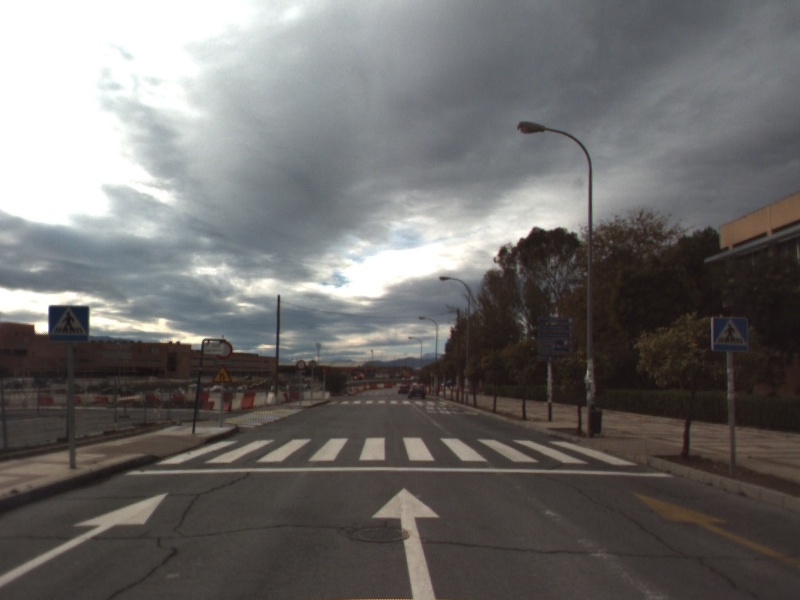STRAIGHT: (1, 490, 171, 587), (630, 489, 800, 567), (369, 485, 443, 600)
